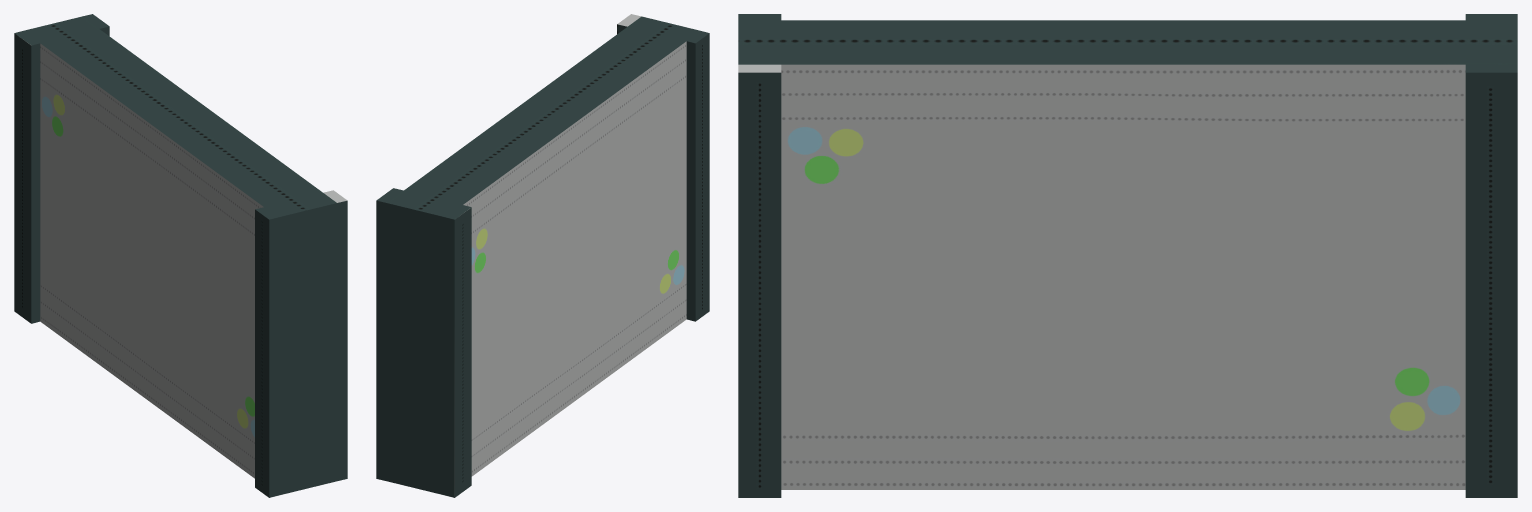
File: New Wall.fbx
3 views of the same model, side by side, from view 1: azimuth 30°, elevation 25°; view 2: azimuth 150°, elevation 25°; view 3: azimuth 270°, elevation 25° (orthographic). The views are drawn at different scales.
Parts seen in each view (by area): view 1: Wall; view 2: Wall; view 3: Wall.
Part boxes in pixels (box(x1,y1,x2,y2)): Wall: box(14, 14, 347, 497); Wall: box(376, 14, 709, 497); Wall: box(738, 14, 1517, 497).
Size of the model in its own units: 1494 by 900 by 266.
